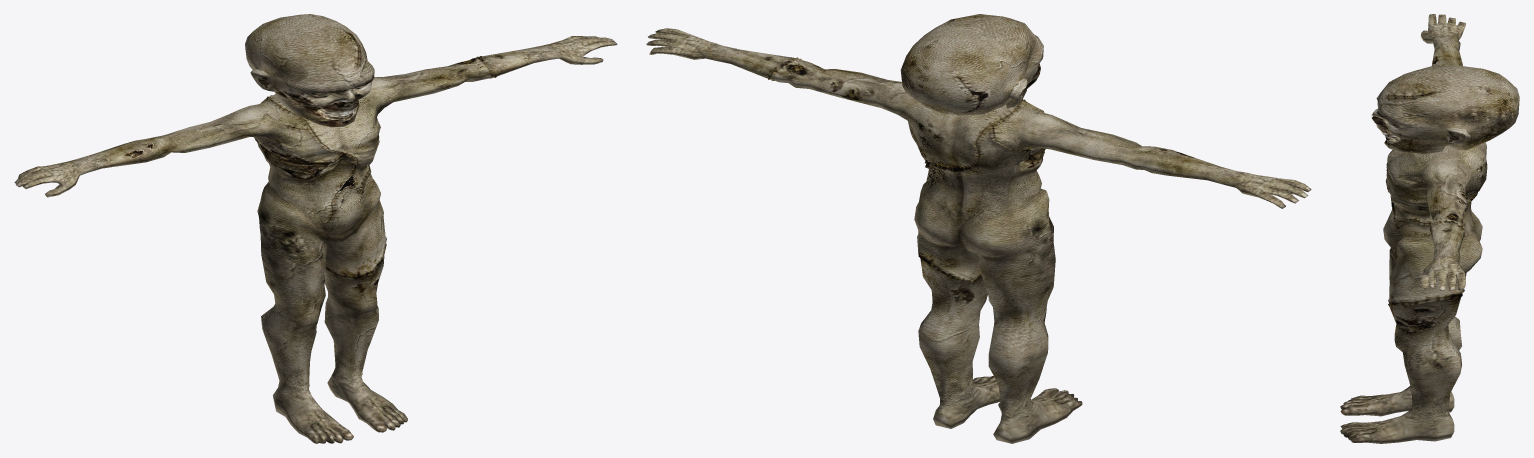
Rendered from yeti-lod0.glb.
3 renders of one model, left to right at view 1: azimuth 30°, elevation 25°; view 2: azimuth 150°, elevation 25°; view 3: azimuth 270°, elevation 25°, orthographic. The views are drawn at different scales.
Visible parts, largest first — view 1: Mesh.088_mesh0317; view 2: Mesh.088_mesh0317; view 3: Mesh.088_mesh0317.
Part boxes in pixels (box(x1,y1,x2,y2)): Mesh.088_mesh0317: box(14, 14, 617, 443); Mesh.088_mesh0317: box(646, 14, 1311, 443); Mesh.088_mesh0317: box(1340, 14, 1519, 443).
Size of the model in its own units: 6.44 by 3.79 by 1.77.
2 materials, 2 textured.
